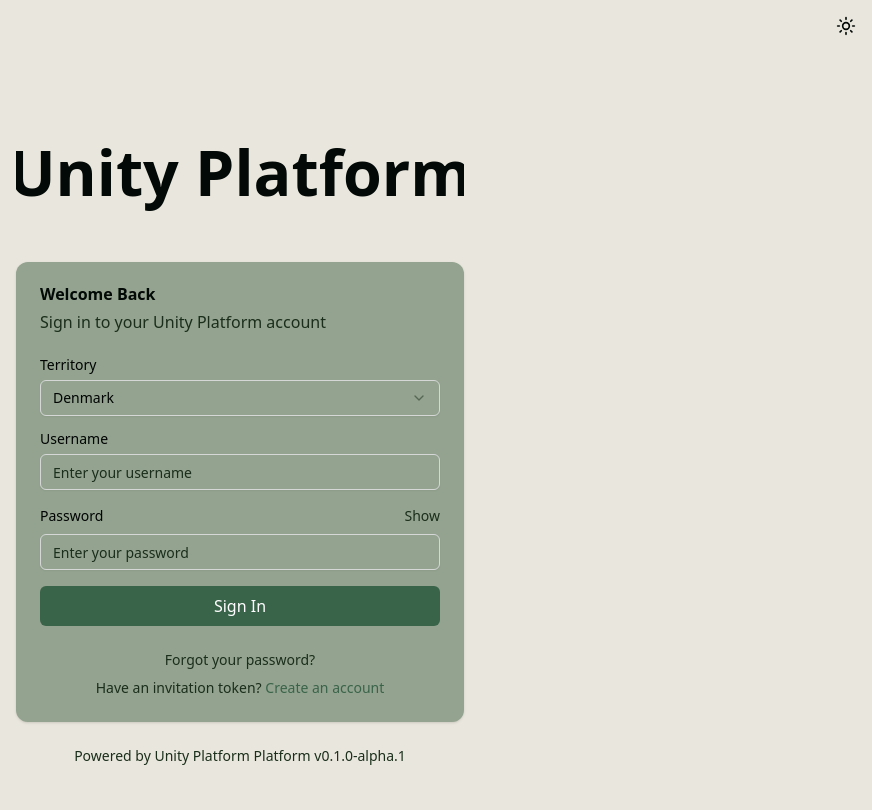
Test: LoginPage › shows validation error for short username
This screenshot has width=872, height=810.
Type "ab" into the field labelled "Username".
click(240, 472); type("ab")  # box [40,454,440,490]
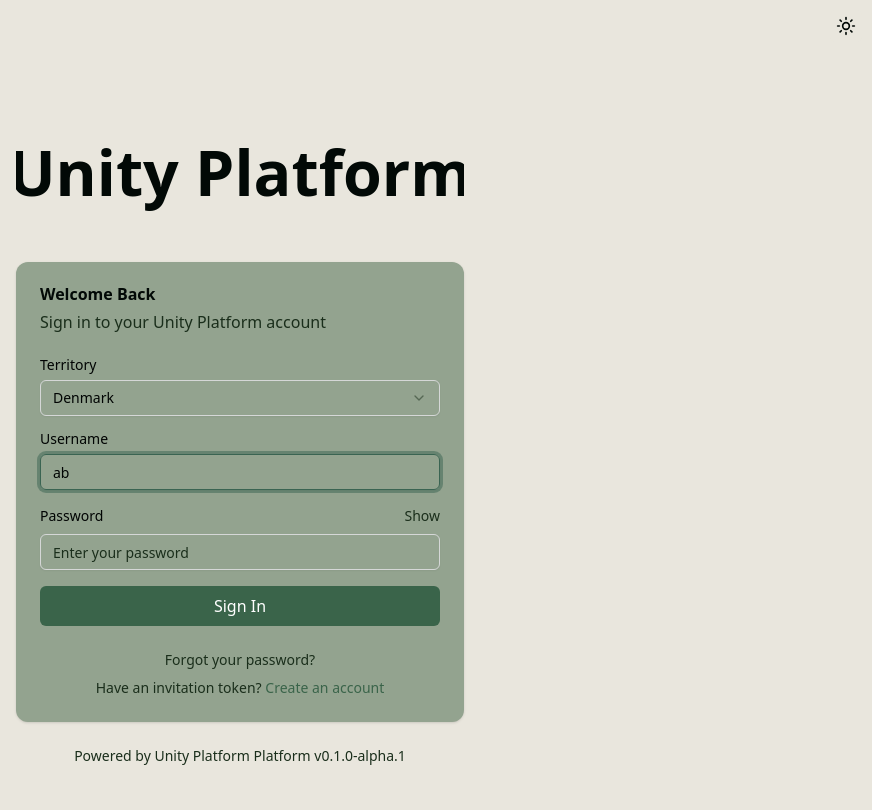
Click the button "Sign In".
click(240, 606)  # box [40,586,440,626]
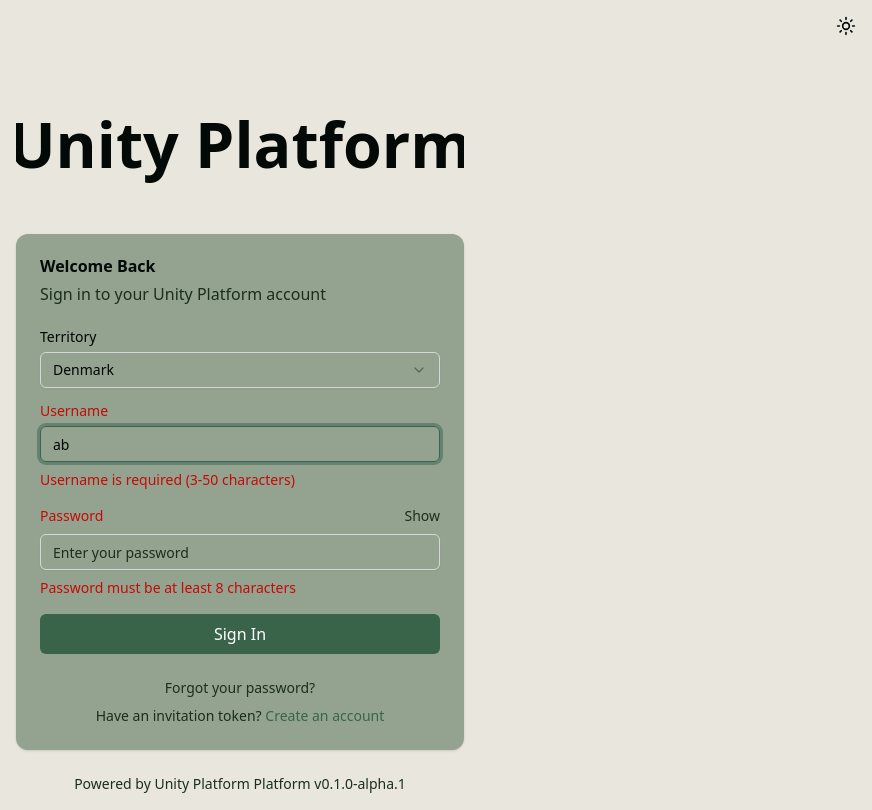
Expected: the text "Username is required (3-50 characters)" is shown, [40,470,295,489]
